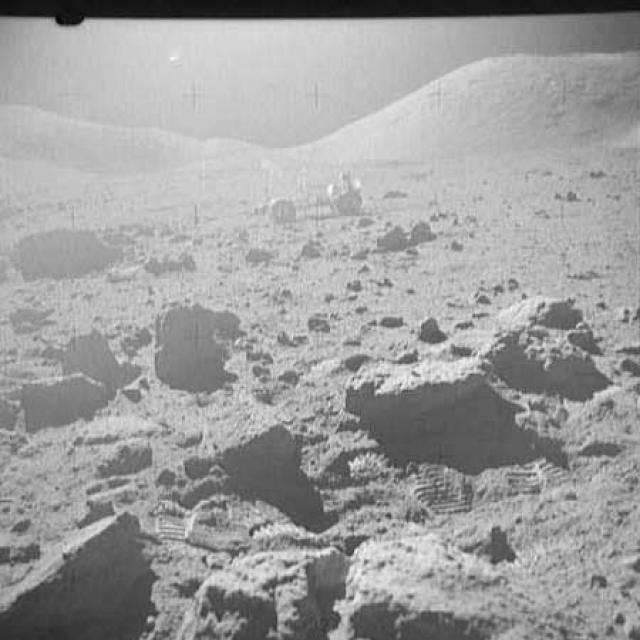artifact: (324, 166, 369, 214), (264, 194, 294, 225)
rock: (181, 542, 347, 638), (2, 513, 144, 624), (442, 300, 598, 390), (350, 360, 490, 421), (199, 411, 308, 473), (145, 293, 245, 351), (12, 371, 114, 408), (54, 326, 120, 372), (84, 436, 156, 473), (369, 220, 410, 254), (412, 312, 442, 338), (413, 216, 437, 246)
